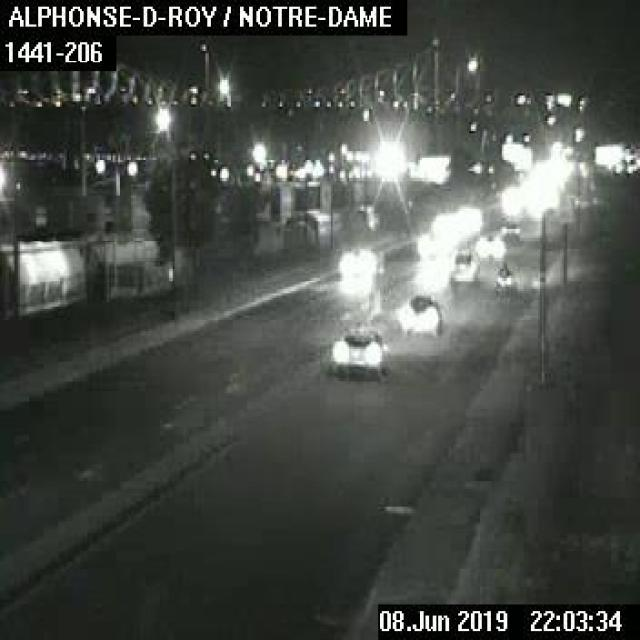vehicle: (332, 327, 383, 369), (400, 294, 442, 332), (336, 243, 379, 280), (476, 224, 520, 260), (446, 250, 479, 292), (491, 261, 516, 298)
